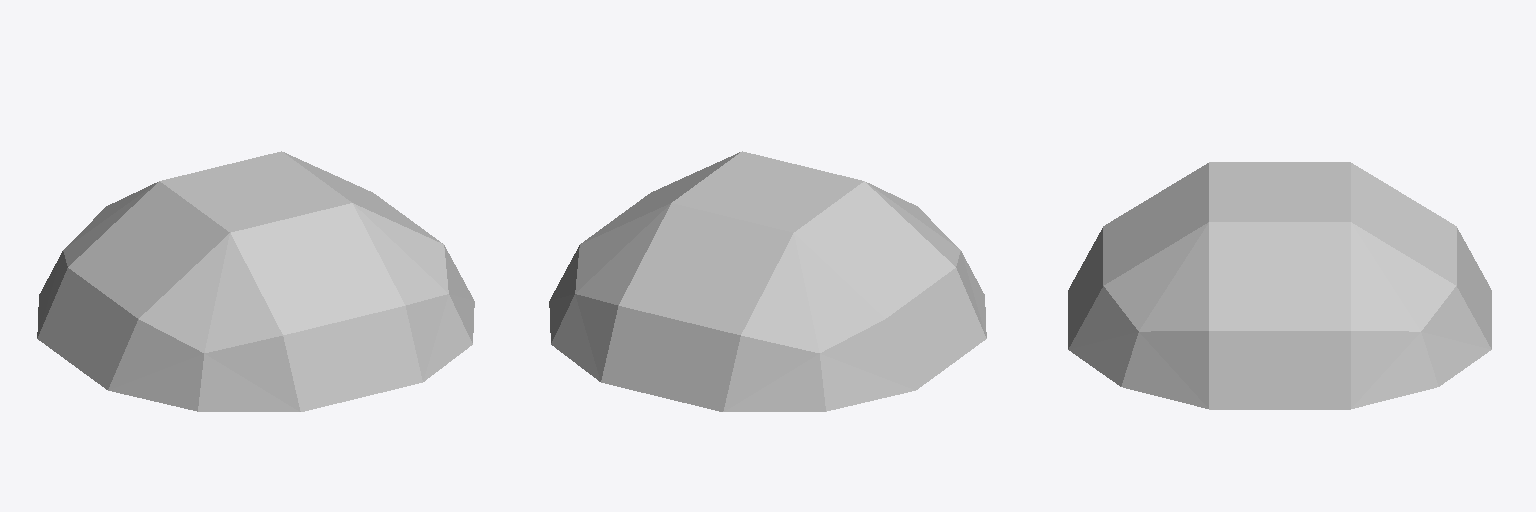
The model's file is Reactor.obj.
3 renders of one model, left to right at view 1: azimuth 30°, elevation 25°; view 2: azimuth 150°, elevation 25°; view 3: azimuth 270°, elevation 25°, orthographic.
Visible parts, largest first — view 1: Cube; view 2: Cube; view 3: Cube.
Boxes of the visible parts, <box> form: Cube: <box>37,151,474,411</box>; Cube: <box>549,151,986,411</box>; Cube: <box>1068,162,1491,409</box>.
Size of the model in its own units: 24 by 8 by 24.